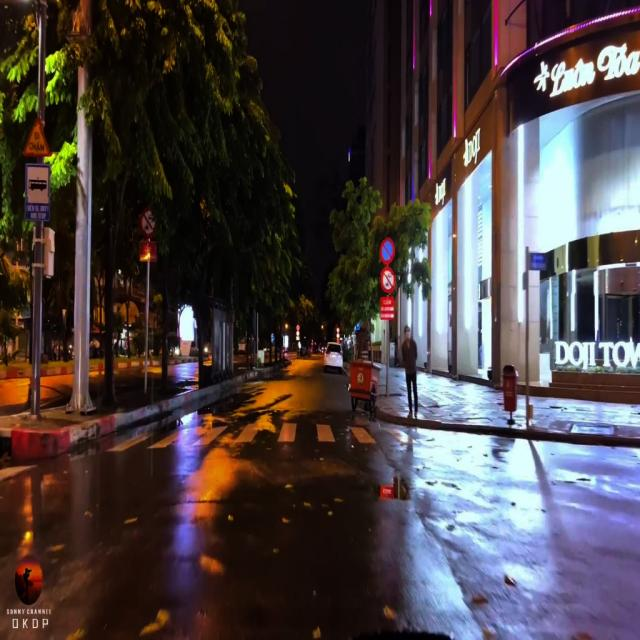cam_do_xe: (379, 237, 396, 266)
cam_xe_2_banh_va_xe_3_banh_co_dong_co: (140, 207, 157, 238), (379, 266, 396, 295)
di_cham: (24, 112, 52, 156)
khac: (26, 163, 49, 221)
